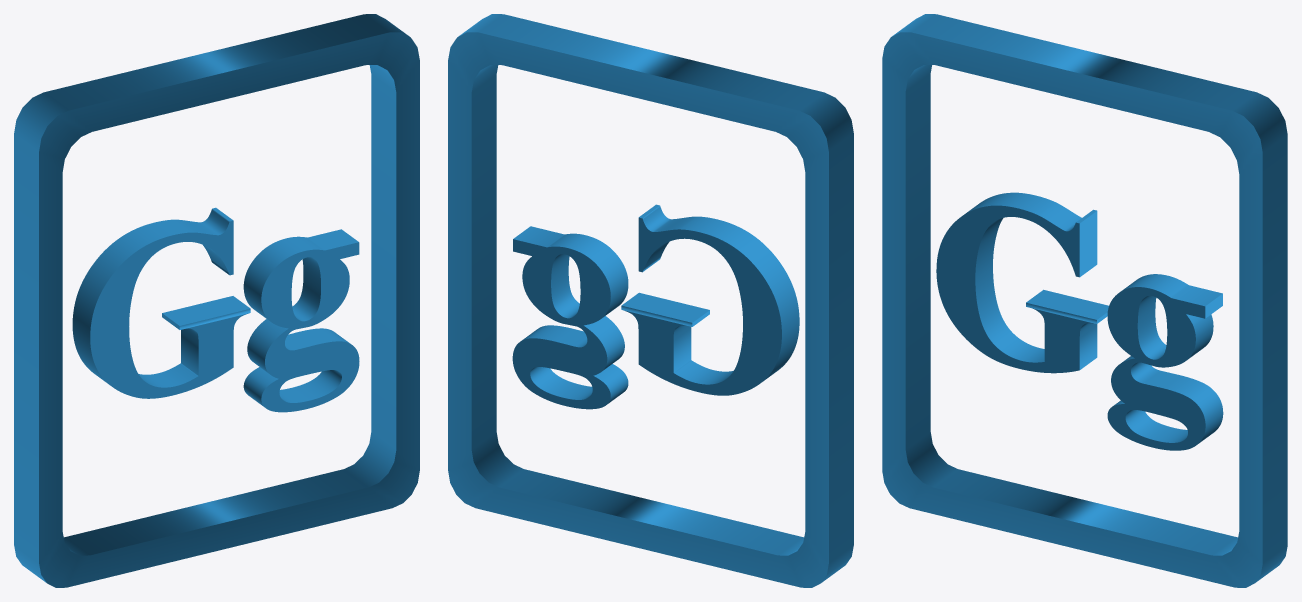
Rendered from Letter_G.gltf.
3 renders of one model, left to right at view 1: azimuth 30°, elevation 25°; view 2: azimuth 150°, elevation 25°; view 3: azimuth 330°, elevation 25°, orthographic.
Visible parts, largest first — view 1: Plane.048; view 2: Plane.048; view 3: Plane.048.
Part boxes in pixels (box(x1,y1,x2,y2)): Plane.048: box(14, 14, 419, 587); Plane.048: box(448, 14, 853, 587); Plane.048: box(882, 14, 1287, 587).
Size of the model in its own units: 1.25 by 1.49 by 0.1418.
